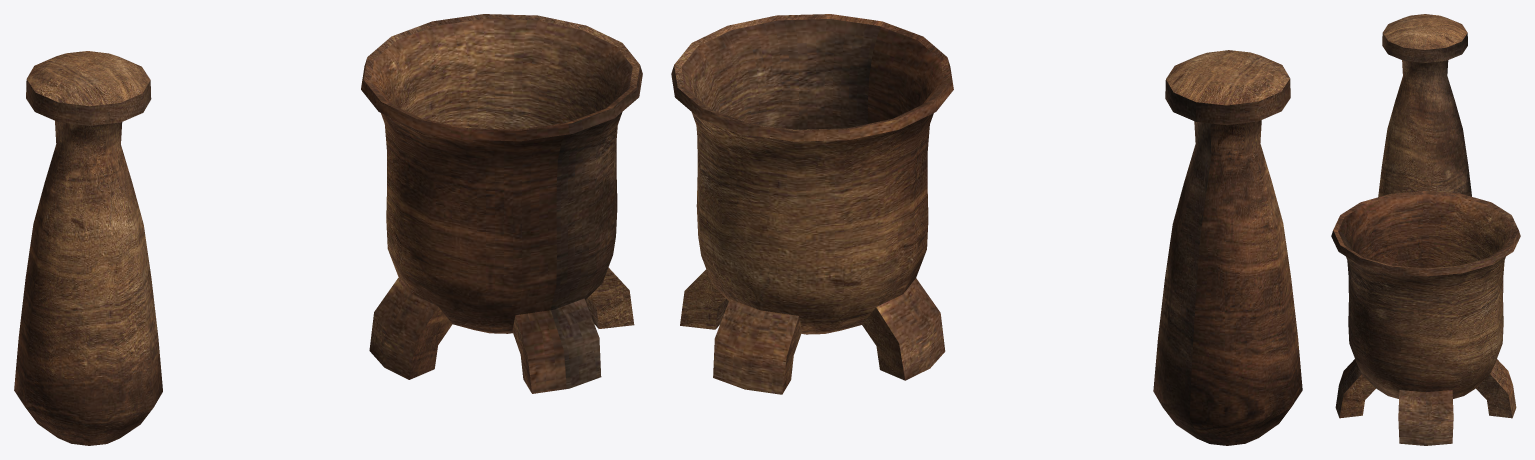
Rendered from Mortal and pestle.fbx.
The picture shows the model from 3 angles, left to right: view 1: azimuth 30°, elevation 25°; view 2: azimuth 150°, elevation 25°; view 3: azimuth 270°, elevation 25°; orthographic projection. The views are drawn at different scales.
Visible parts, largest first — view 1: mortar, pestle; view 2: mortar, pestle; view 3: mortar, pestle.
Boxes of the visible parts, x1,y1,x2,y2 form: mortar: (361,14,642,393); pestle: (14,51,162,445); mortar: (671,14,953,394); pestle: (1153,50,1302,445); mortar: (1331,191,1520,445); pestle: (1378,14,1471,197).
Bounding box in the file's own units: 3230 × 1927 × 1324.
Materials: 2 (2 with a texture image).
